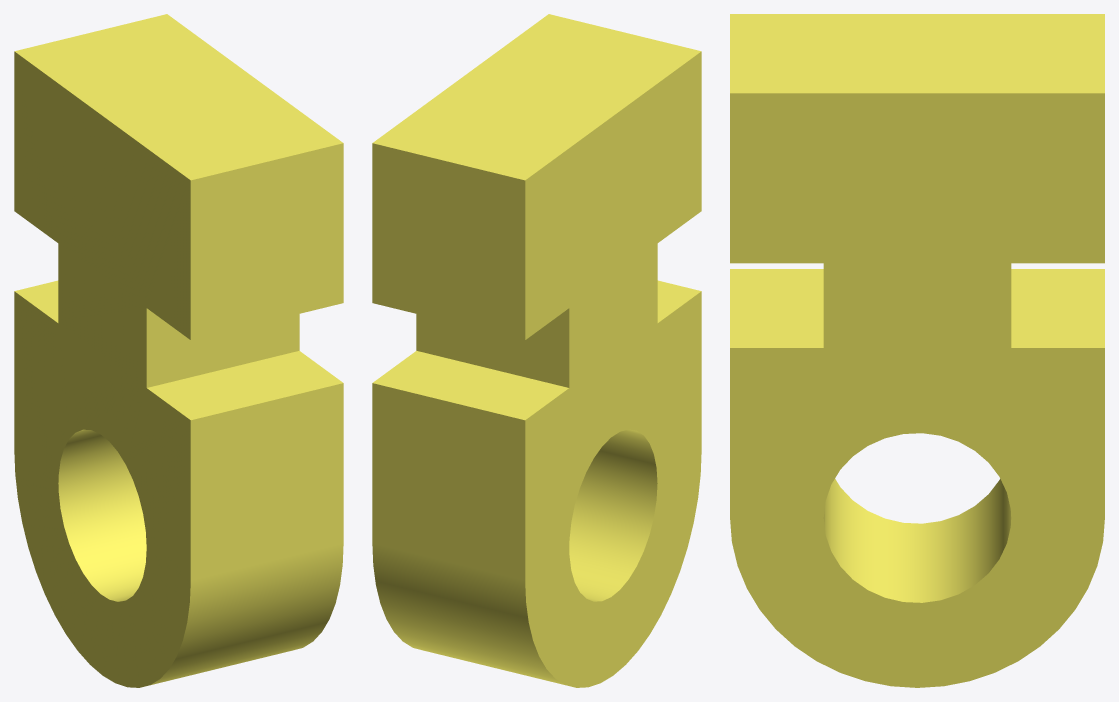
3 renders of one model, left to right at view 1: azimuth 30°, elevation 25°; view 2: azimuth 150°, elevation 25°; view 3: azimuth 270°, elevation 25°, orthographic. The views are drawn at different scales.
Parts seen in each view (by area): view 1: 887; view 2: 887; view 3: 887.
Part boxes in pixels (bbox=[...]): 887: bbox=[14, 14, 343, 687]; 887: bbox=[372, 14, 701, 687]; 887: bbox=[730, 14, 1104, 687].
Size of the model in its own units: 0.02 by 0.07 by 0.04.
